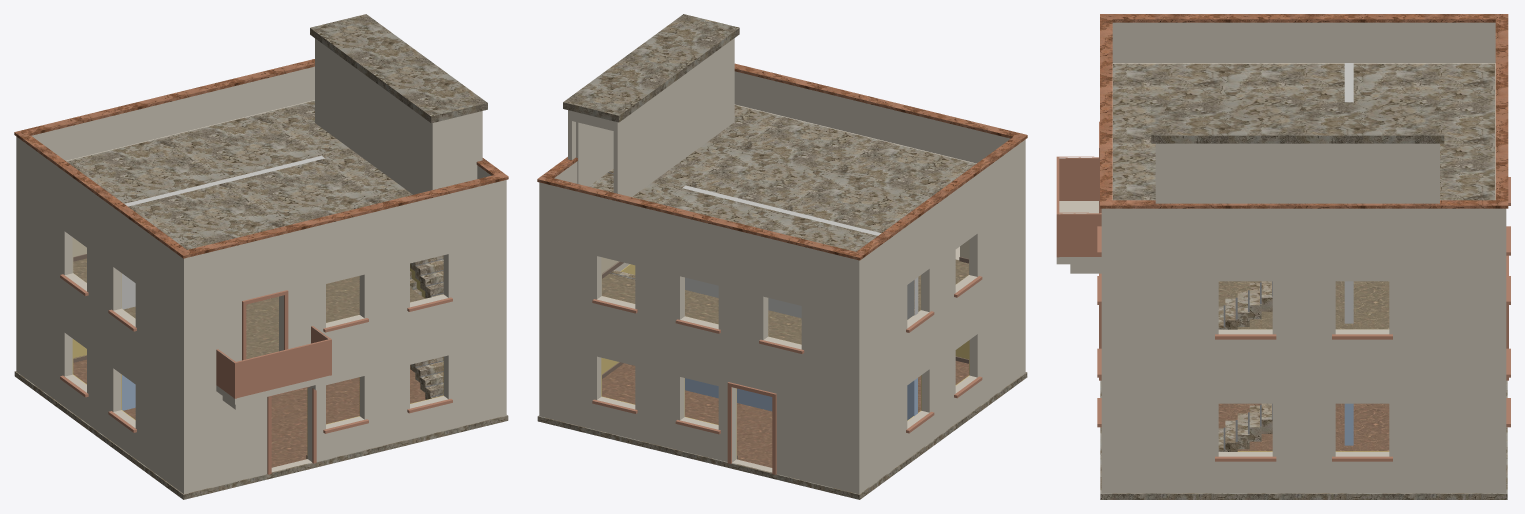
File: bay-villa-cream.windows-v1.lod0.glb
The picture shows the model from 3 angles, left to right: view 1: azimuth 30°, elevation 25°; view 2: azimuth 150°, elevation 25°; view 3: azimuth 270°, elevation 25°; orthographic projection. The views are drawn at different scales.
Parts seen in each view (by area): view 1: bay-villa-cream; view 2: bay-villa-cream; view 3: bay-villa-cream.
Boxes of the visible parts, x1=… form: bay-villa-cream: x1=14, y1=14, x2=508, y2=499; bay-villa-cream: x1=537, y1=14, x2=1027, y2=499; bay-villa-cream: x1=1056, y1=14, x2=1510, y2=499.
Bounding box in the file's own units: 10.2 × 8.96 × 10.12.
3 materials, 2 textured.
